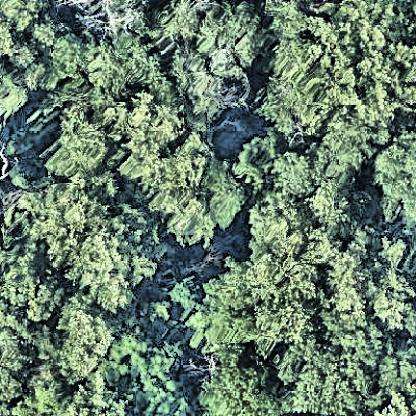tree-top: (250, 198, 416, 338), (39, 163, 159, 307), (122, 105, 218, 246), (164, 1, 272, 125), (310, 3, 416, 125), (290, 327, 413, 416), (174, 257, 258, 364), (263, 1, 322, 141), (35, 103, 125, 190), (46, 293, 116, 388), (203, 344, 291, 416), (10, 20, 87, 97), (1, 322, 66, 413), (91, 31, 177, 98), (104, 321, 178, 393), (1, 191, 45, 306), (369, 133, 416, 228), (202, 157, 249, 230), (272, 146, 323, 198)
